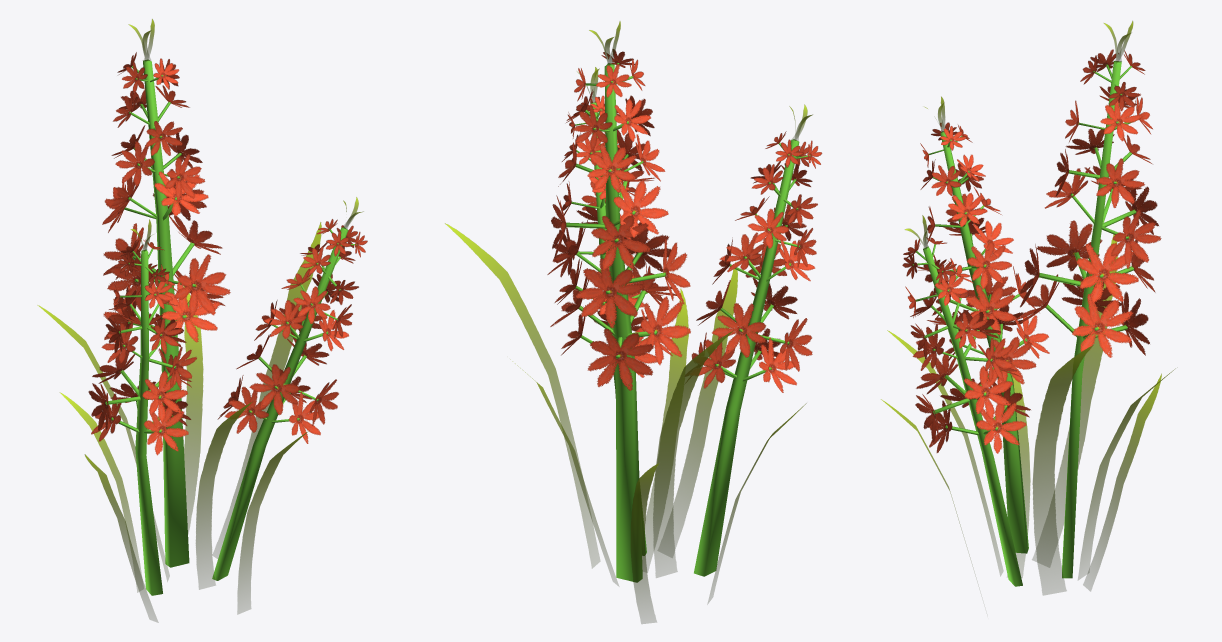
The model's file is Flower.glb.
3 views of the same model, side by side, from view 1: azimuth 30°, elevation 25°; view 2: azimuth 150°, elevation 25°; view 3: azimuth 270°, elevation 25° (orthographic). The views are drawn at different scales.
Visible parts, largest first — view 1: Type_2_Flower-2_LOD0; view 2: Type_2_Flower-2_LOD0; view 3: Type_2_Flower-2_LOD0.
Part boxes in pixels (x1,y1,x2,y2): Type_2_Flower-2_LOD0: [37, 19, 367, 622]; Type_2_Flower-2_LOD0: [445, 21, 822, 623]; Type_2_Flower-2_LOD0: [881, 21, 1175, 595].
Bounding box in the file's own units: 0.7559 × 1.21 × 0.6567.
3 materials, 3 textured.
